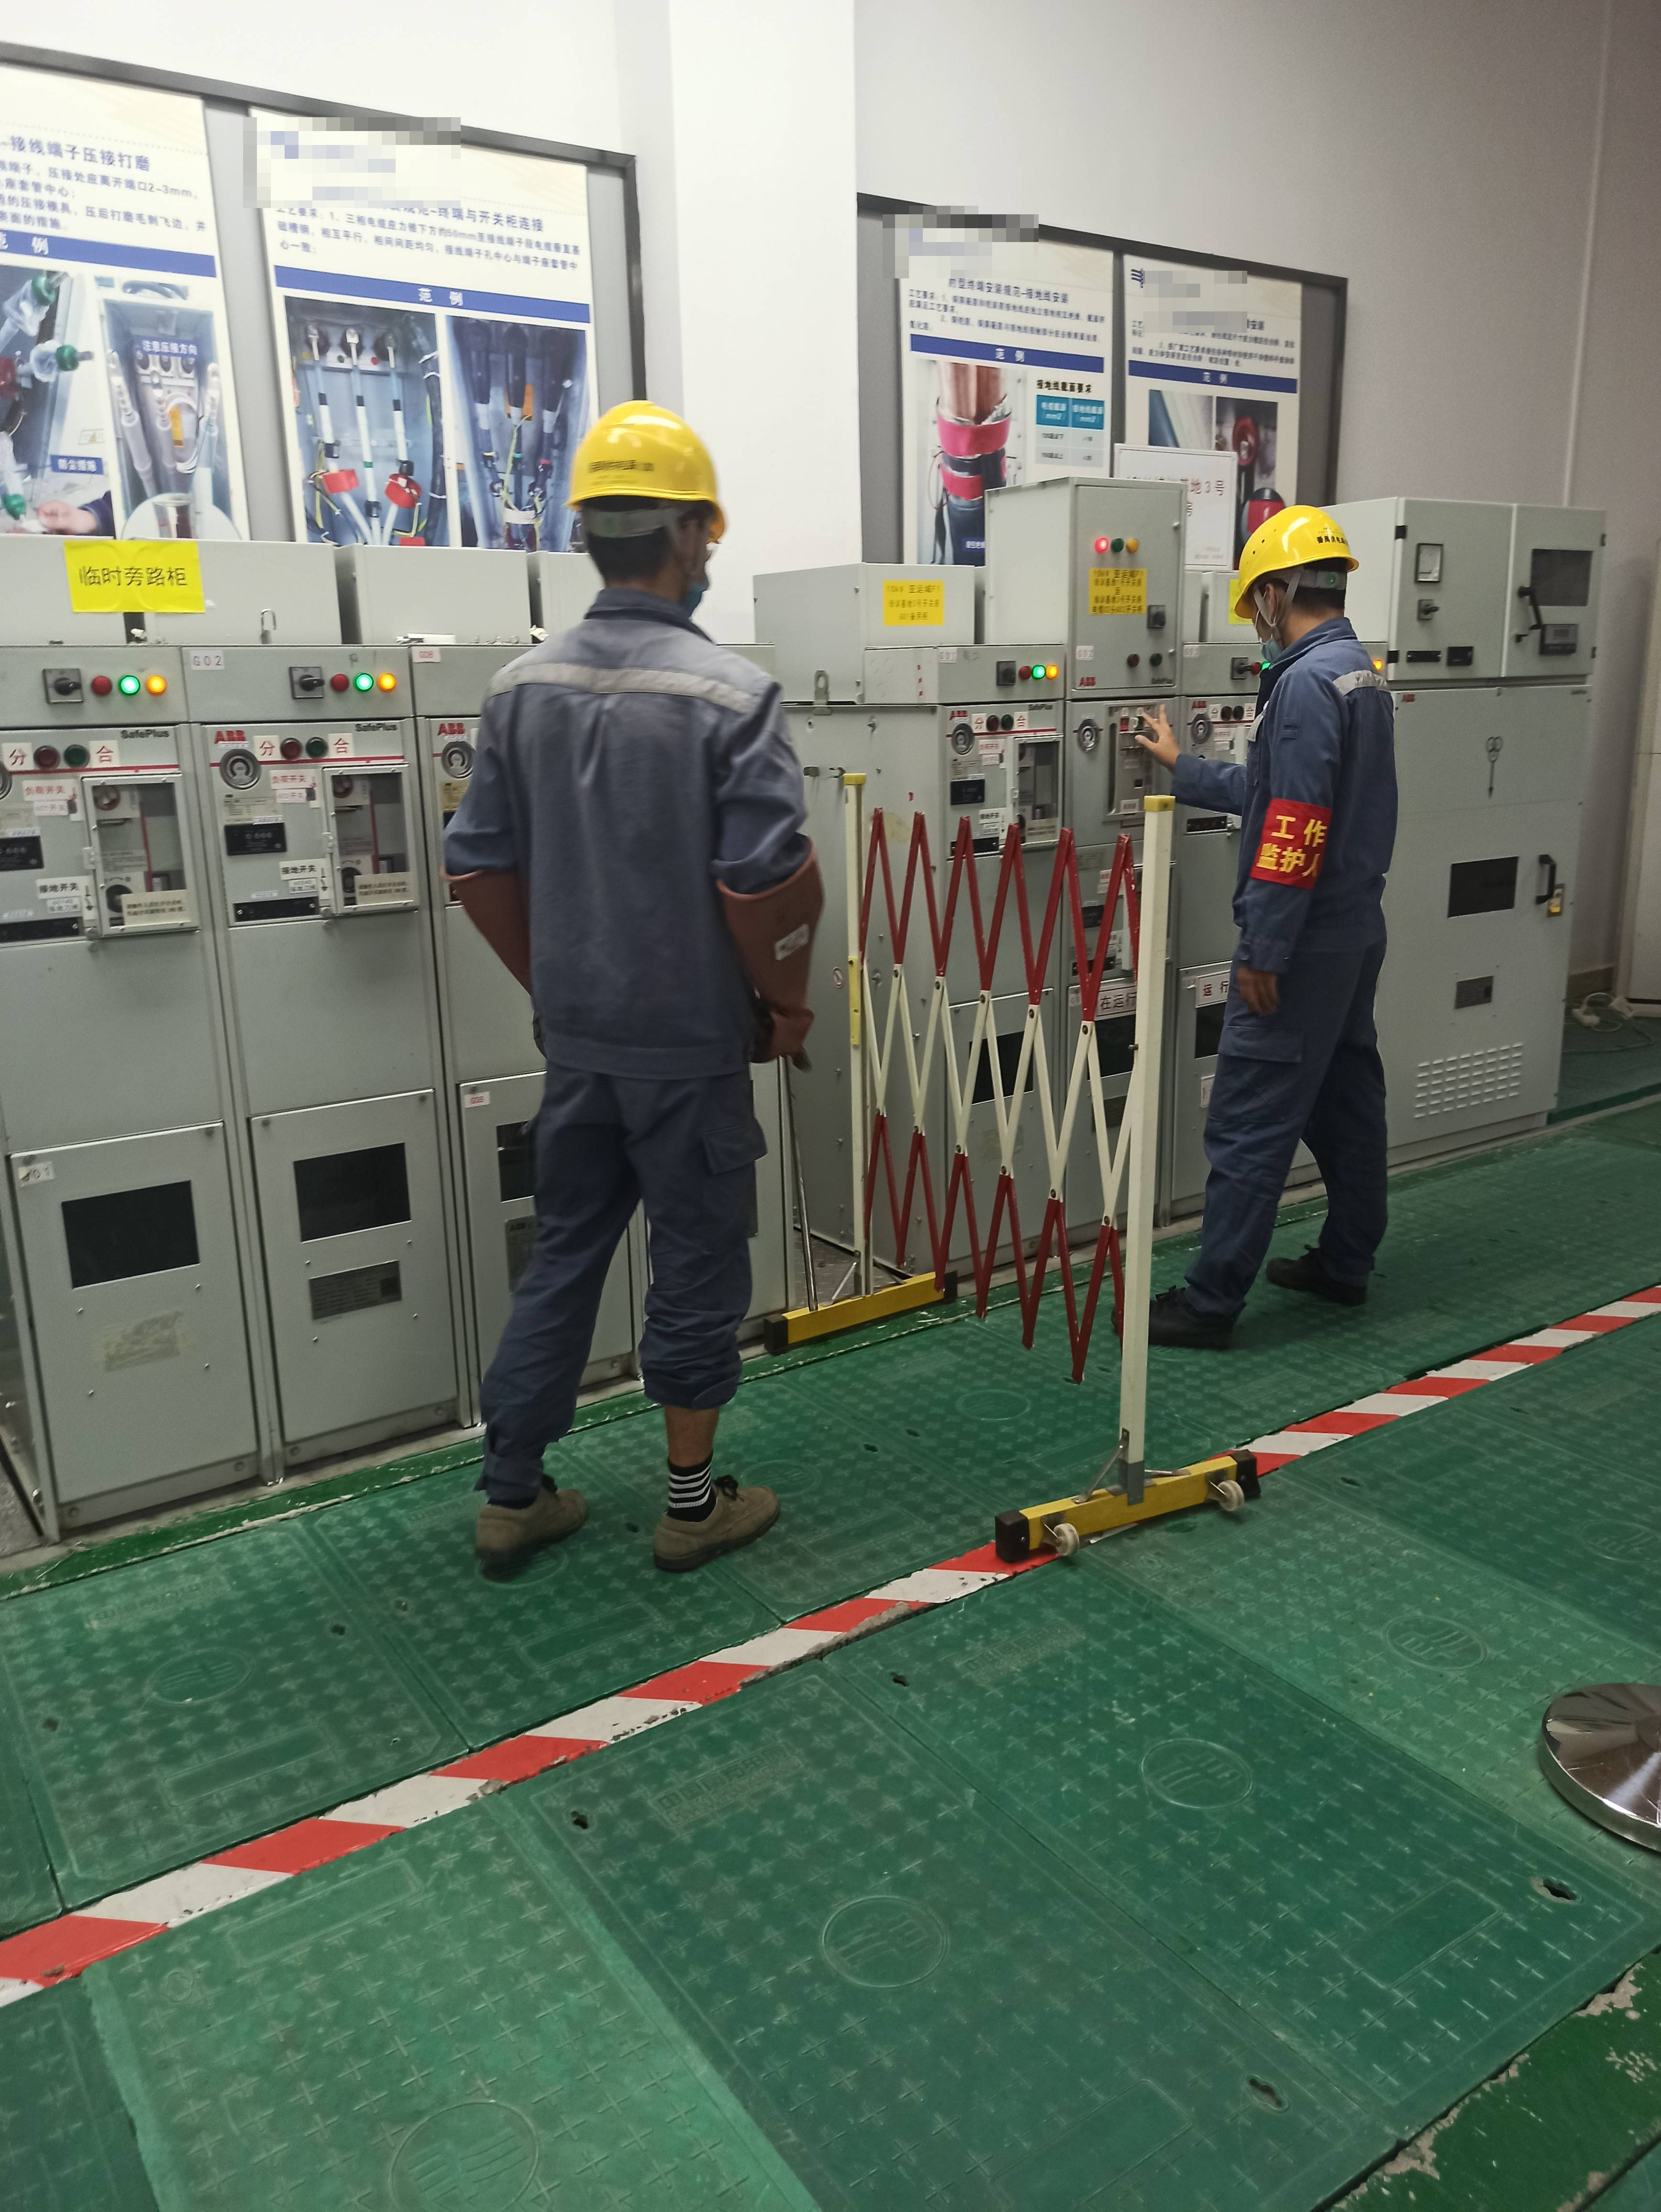downsuit: (468, 1103, 757, 1486), (1172, 994, 1403, 1321)
upsuit: (436, 604, 822, 1082), (1190, 626, 1401, 956)
wrongbottom: (637, 1371, 729, 1499)
